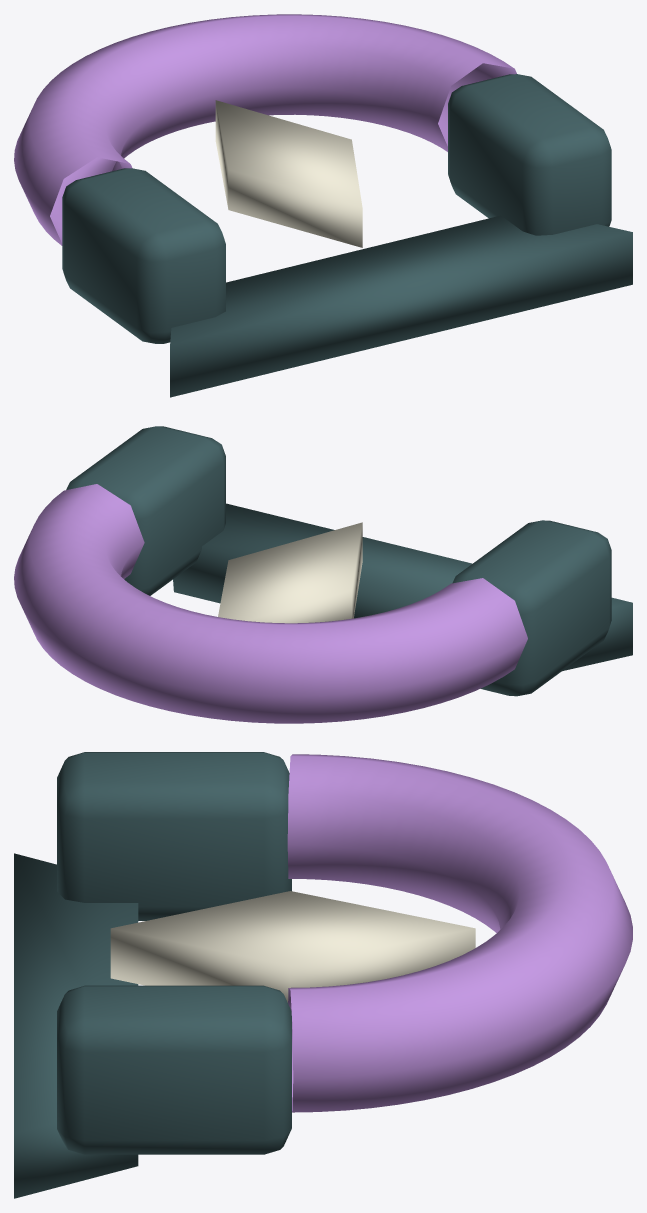
The model's file is teleport.glb.
3 views of the same model, one above another, from view 1: azimuth 30°, elevation 25°; view 2: azimuth 150°, elevation 25°; view 3: azimuth 270°, elevation 25° (orthographic). The views are drawn at different scales.
Visible parts, largest first — view 1: Continuous gate arch, Gate foundation, Gate pillar, Gate pillar.001, Warp diamond; view 2: Continuous gate arch, Gate pillar, Gate pillar.001, Gate foundation, Warp diamond; view 3: Continuous gate arch, Gate pillar.001, Gate pillar, Warp diamond, Gate foundation.
Boxes of the visible parts, x1,y1,x2,y2 form: Continuous gate arch: [14, 14, 516, 245]; Gate foundation: [170, 215, 632, 397]; Gate pillar: [62, 168, 225, 343]; Gate pillar.001: [448, 74, 611, 235]; Warp diamond: [215, 100, 362, 247]; Continuous gate arch: [14, 484, 527, 723]; Gate pillar: [452, 520, 611, 696]; Gate pillar.001: [66, 426, 225, 595]; Gate foundation: [173, 503, 632, 671]; Warp diamond: [218, 522, 362, 623]; Continuous gate arch: [287, 754, 632, 1112]; Gate pillar.001: [57, 985, 291, 1154]; Gate pillar: [57, 752, 291, 920]; Warp diamond: [110, 891, 475, 1002]; Gate foundation: [14, 853, 138, 1198].
Size of the model in its own units: 2.48 by 0.74 by 2.24.
